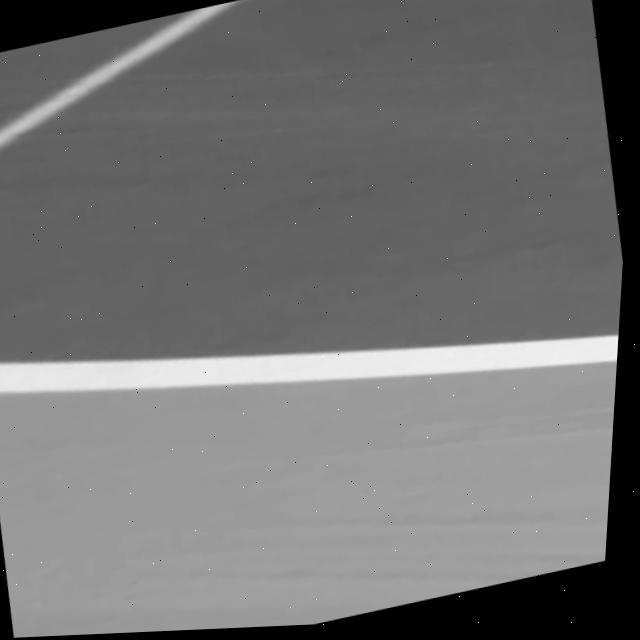right: (0, 333, 619, 391)
